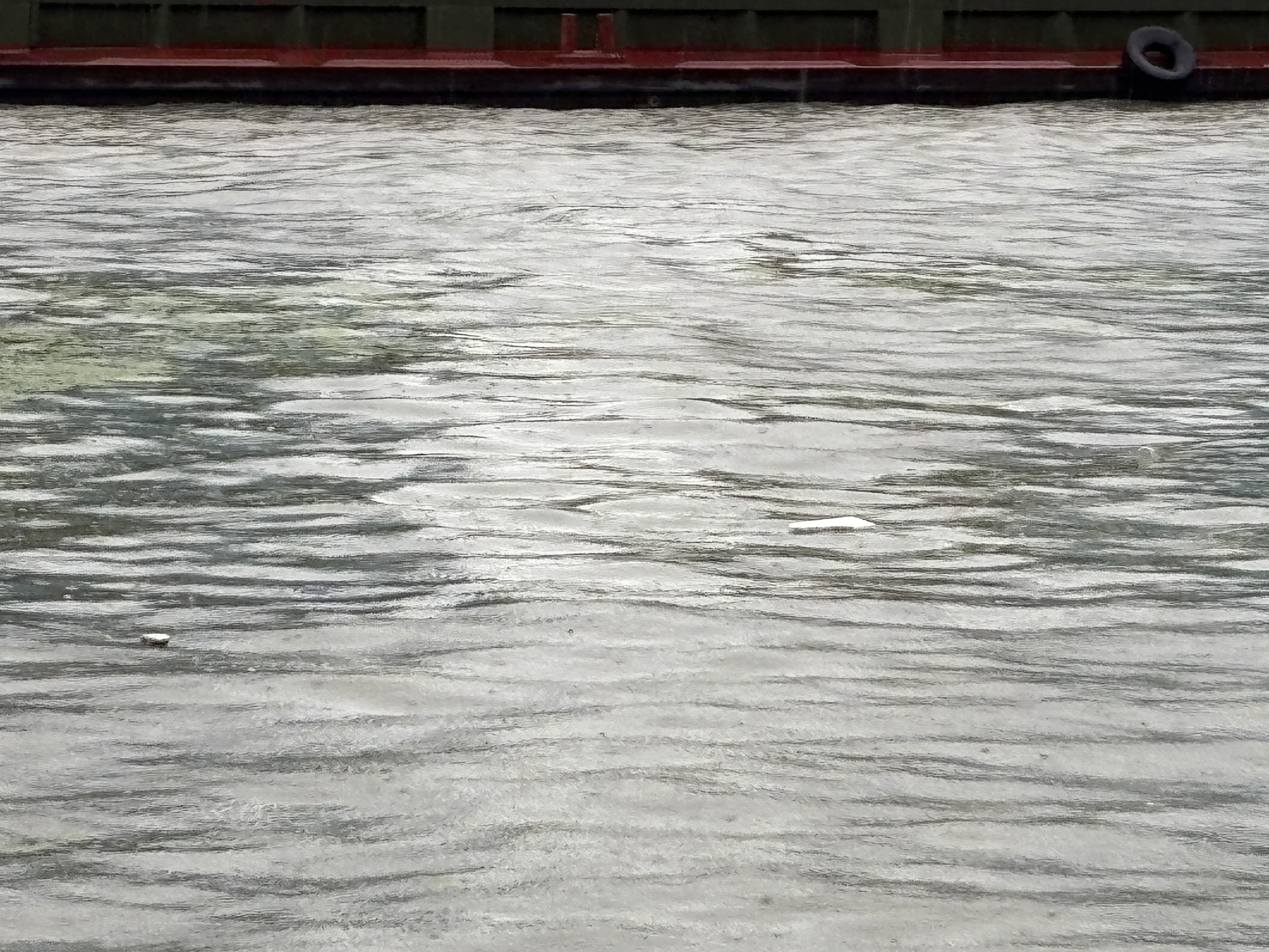Plastic wastes: (398, 414, 477, 447), (1097, 298, 1133, 330)
